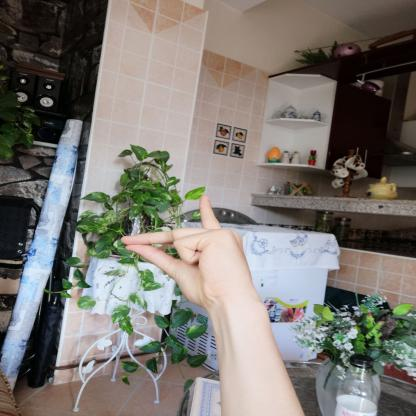TAA: (110, 188, 266, 314)
